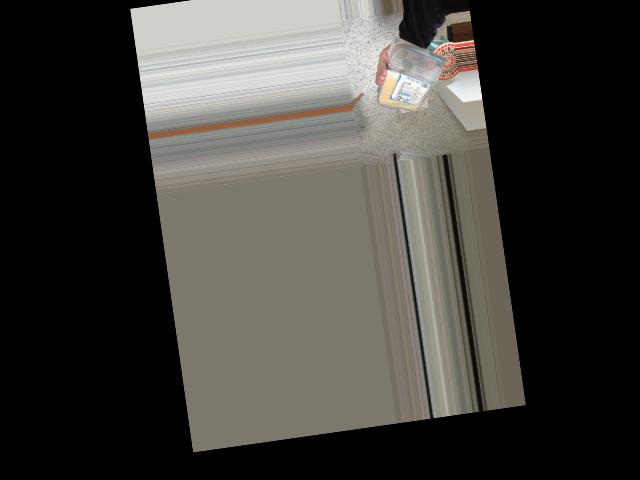cheese: (379, 41, 453, 120)
